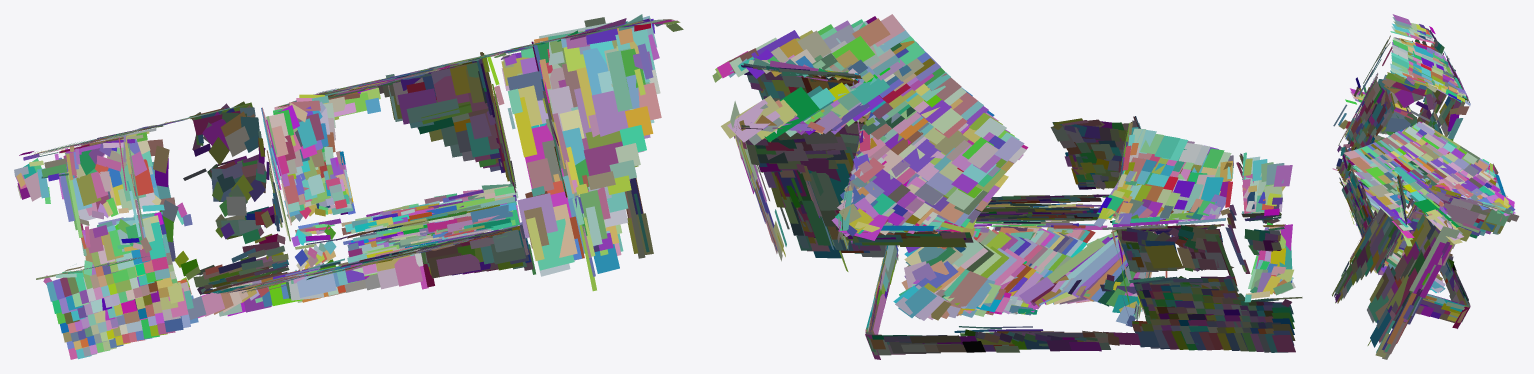
File: planarSplat_rawPrims_normalized_colorPrim.glb
The picture shows the model from 3 angles, left to right: view 1: azimuth 30°, elevation 25°; view 2: azimuth 150°, elevation 25°; view 3: azimuth 270°, elevation 25°; orthographic projection. The views are drawn at different scales.
Parts seen in each view (by area): view 1: planarSplat_rawPrims_normalized_colorPrim.ply; view 2: planarSplat_rawPrims_normalized_colorPrim.ply; view 3: planarSplat_rawPrims_normalized_colorPrim.ply.
Part boxes in pixels (box(x1,y1,x2,y2)): planarSplat_rawPrims_normalized_colorPrim.ply: box(14, 14, 683, 359); planarSplat_rawPrims_normalized_colorPrim.ply: box(712, 14, 1302, 359); planarSplat_rawPrims_normalized_colorPrim.ply: box(1332, 14, 1519, 359).
Size of the model in its own units: 4.59 by 2.04 by 1.75.
